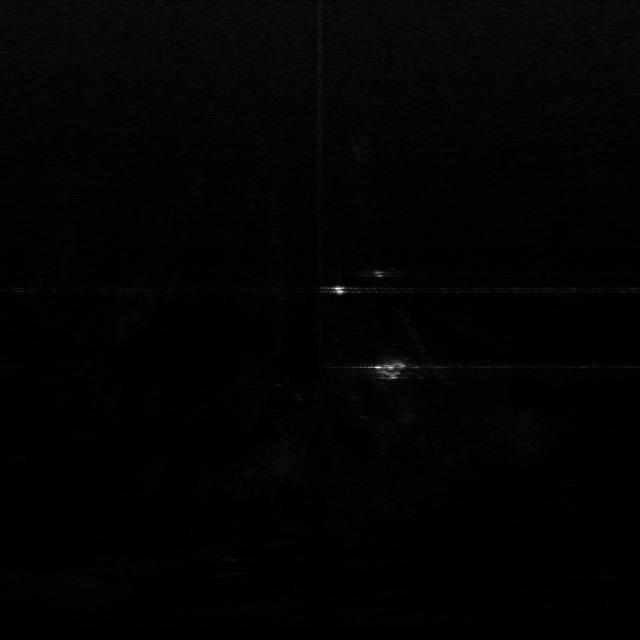rov: (371, 358, 408, 379)
